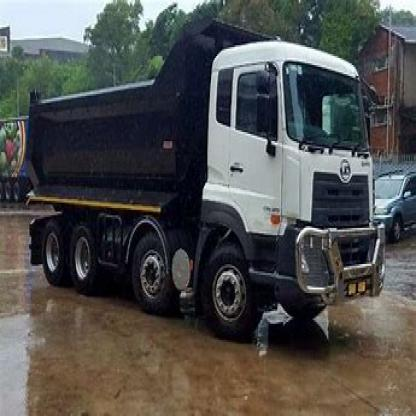dump_truck: (25, 14, 392, 354)
